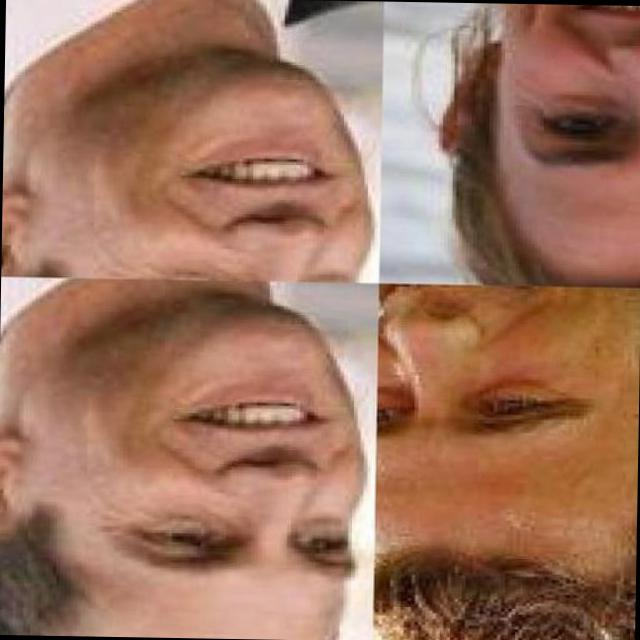bareface: (41, 310, 359, 632)
